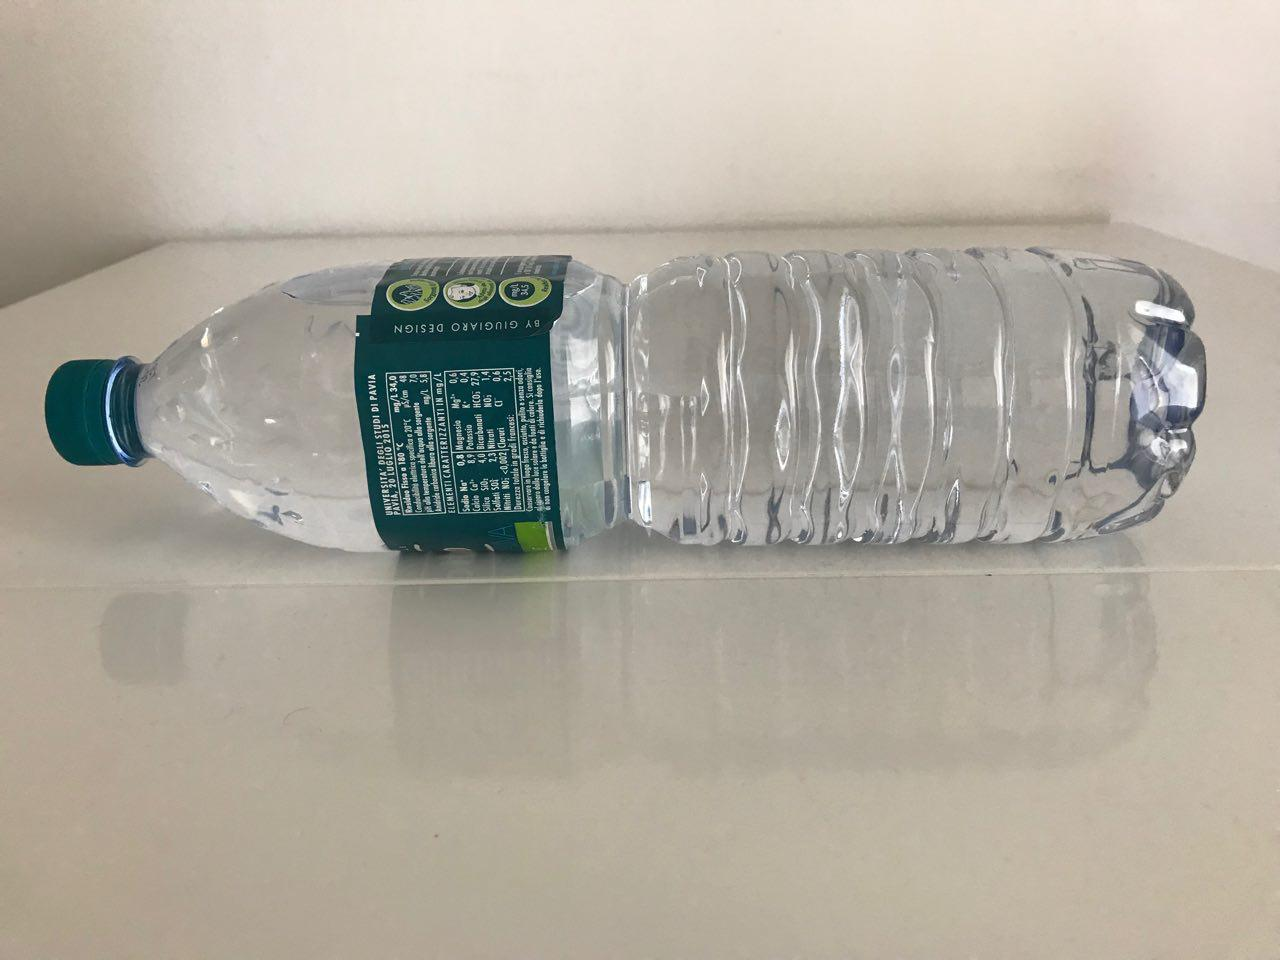san_bernardo: (43, 243, 1209, 557)
